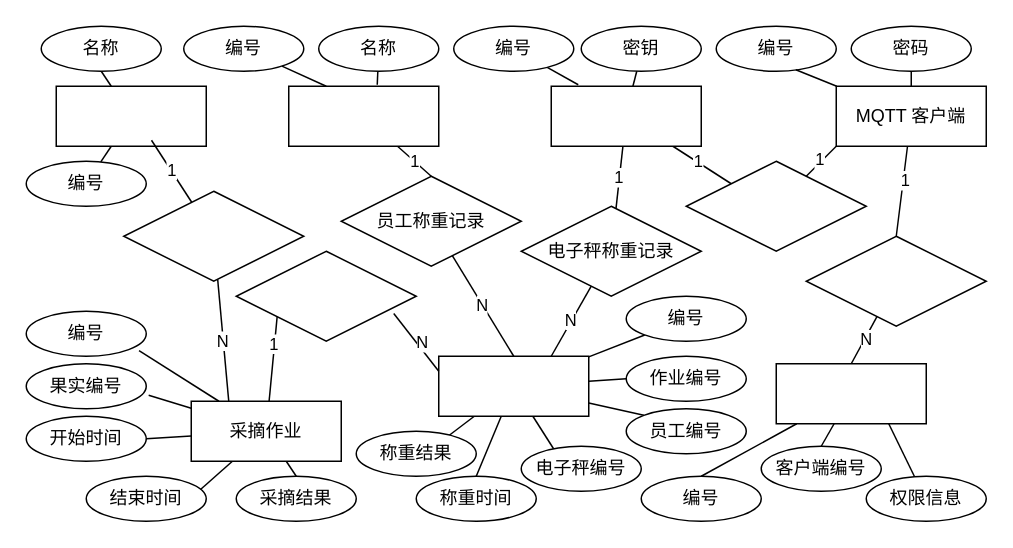
The diagram is 1013 pixels wide and 548 high, and some of its shapes have lost their labels. Each missing label, with the centre of its shape:
"MQTT 授权信息" goes at point (850, 393).
"作业完成记录" goes at point (325, 295).
"员工" goes at point (363, 115).
"果实" goes at point (130, 115).
"电子秤" goes at point (625, 115).
"称重记录" goes at point (513, 385).
"设备授权" goes at point (895, 280).
"设备认证" goes at point (775, 205).
"采摘关系" goes at point (213, 235).
